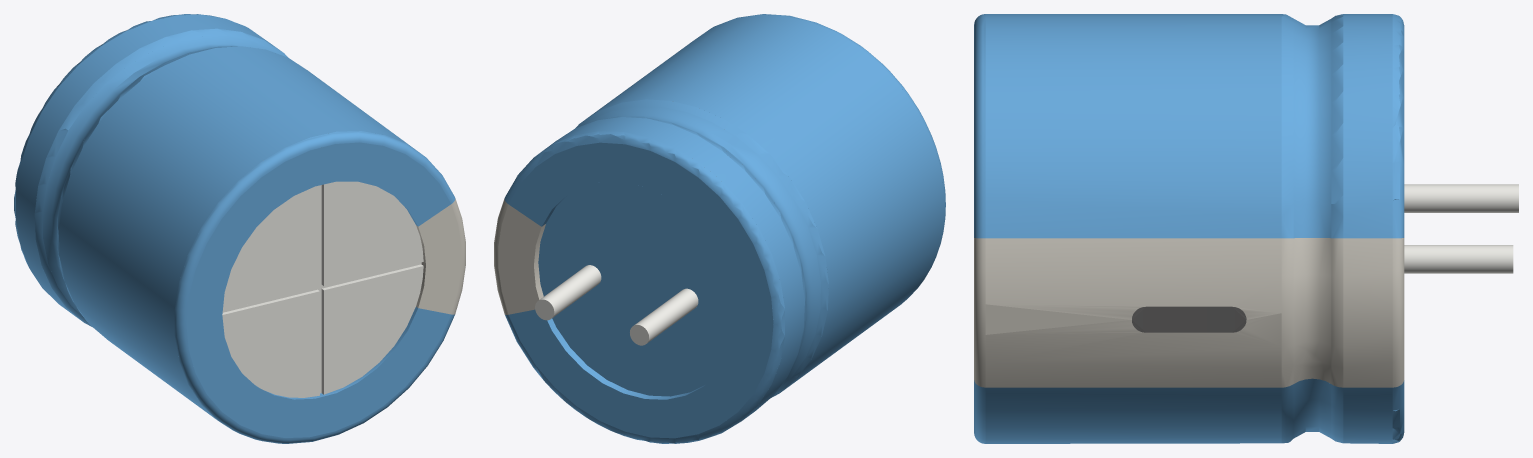
The model's file is CP_Radial_D7.5mm_P2.50mm.glb.
3 views of the same model, side by side, from view 1: azimuth 30°, elevation 25°; view 2: azimuth 150°, elevation 25°; view 3: azimuth 270°, elevation 25° (orthographic). The views are drawn at different scales.
Parts seen in each view (by area): view 1: Shape_IndexedFaceSet.019, Shape_IndexedFaceSet.024, Shape_IndexedFaceSet.011, Shape_IndexedFaceSet.028, Shape_IndexedFaceSet.030, Shape_IndexedFaceSet.034, Shape_IndexedFaceSet.021, Shape_IndexedFaceSet.037, Shape_IndexedFaceSet.015, Shape_IndexedFaceSet.013, Shape_IndexedFaceSet.025, Shape_IndexedFaceSet.017 (+4 smaller); view 2: Shape_IndexedFaceSet.019, Shape_IndexedFaceSet.002, Shape_IndexedFaceSet.006, Shape_IndexedFaceSet.011, Shape_IndexedFaceSet.009, Shape_IndexedFaceSet.015, Shape_IndexedFaceSet.017, Shape_IndexedFaceSet.007, Shape_IndexedFaceSet.005, Shape_IndexedFaceSet.001, Shape_IndexedFaceSet.013, Shape_IndexedFaceSet.003 (+2 smaller); view 3: Shape_IndexedFaceSet.019, Shape_IndexedFaceSet.020, Shape_IndexedFaceSet.011, Shape_IndexedFaceSet.015, Shape_IndexedFaceSet.012, Shape_IndexedFaceSet.016, Shape_IndexedFaceSet.017, Shape_IndexedFaceSet.013, Shape_IndexedFaceSet.009, Shape_IndexedFaceSet.021, Shape_IndexedFaceSet.005, Shape_IndexedFaceSet.001 (+5 smaller).
Boxes of the visible parts, x1=… form: Shape_IndexedFaceSet.019: x1=58, y1=46, x2=420, y2=419; Shape_IndexedFaceSet.024: x1=186, y1=142, x2=451, y2=437; Shape_IndexedFaceSet.011: x1=16, y1=14, x2=281, y2=321; Shape_IndexedFaceSet.028: x1=324, y1=266, x2=423, y2=394; Shape_IndexedFaceSet.030: x1=324, y1=181, x2=423, y2=285; Shape_IndexedFaceSet.034: x1=222, y1=291, x2=319, y2=397; Shape_IndexedFaceSet.021: x1=174, y1=131, x2=455, y2=443; Shape_IndexedFaceSet.037: x1=223, y1=185, x2=319, y2=310; Shape_IndexedFaceSet.015: x1=42, y1=36, x2=277, y2=315; Shape_IndexedFaceSet.013: x1=34, y1=28, x2=287, y2=326; Shape_IndexedFaceSet.025: x1=418, y1=204, x2=461, y2=314; Shape_IndexedFaceSet.017: x1=57, y1=46, x2=237, y2=323; Shape_IndexedFaceSet.019: x1=582, y1=15, x2=944, y2=392; Shape_IndexedFaceSet.002: x1=538, y1=181, x2=737, y2=396; Shape_IndexedFaceSet.006: x1=508, y1=142, x2=773, y2=438; Shape_IndexedFaceSet.011: x1=539, y1=117, x2=804, y2=419; Shape_IndexedFaceSet.009: x1=504, y1=131, x2=784, y2=443; Shape_IndexedFaceSet.015: x1=585, y1=106, x2=820, y2=387; Shape_IndexedFaceSet.017: x1=575, y1=99, x2=828, y2=397; Shape_IndexedFaceSet.007: x1=498, y1=204, x2=541, y2=314; Shape_IndexedFaceSet.005: x1=634, y1=288, x2=698, y2=342; Shape_IndexedFaceSet.001: x1=540, y1=265, x2=601, y2=317; Shape_IndexedFaceSet.013: x1=600, y1=116, x2=806, y2=391; Shape_IndexedFaceSet.003: x1=542, y1=195, x2=704, y2=399; Shape_IndexedFaceSet.019: x1=985, y1=14, x2=1281, y2=443; Shape_IndexedFaceSet.020: x1=985, y1=238, x2=1281, y2=387; Shape_IndexedFaceSet.011: x1=1343, y1=14, x2=1392, y2=443; Shape_IndexedFaceSet.015: x1=1293, y1=19, x2=1331, y2=438; Shape_IndexedFaceSet.012: x1=1343, y1=238, x2=1392, y2=387; Shape_IndexedFaceSet.016: x1=1293, y1=238, x2=1331, y2=383; Shape_IndexedFaceSet.017: x1=1281, y1=14, x2=1293, y2=443; Shape_IndexedFaceSet.013: x1=1331, y1=14, x2=1343, y2=443; Shape_IndexedFaceSet.009: x1=1392, y1=14, x2=1404, y2=443; Shape_IndexedFaceSet.021: x1=974, y1=14, x2=985, y2=443; Shape_IndexedFaceSet.005: x1=1404, y1=184, x2=1518, y2=212; Shape_IndexedFaceSet.001: x1=1404, y1=245, x2=1513, y2=273.
Size of the model in its own units: 2.95 by 2.95 by 3.74.
